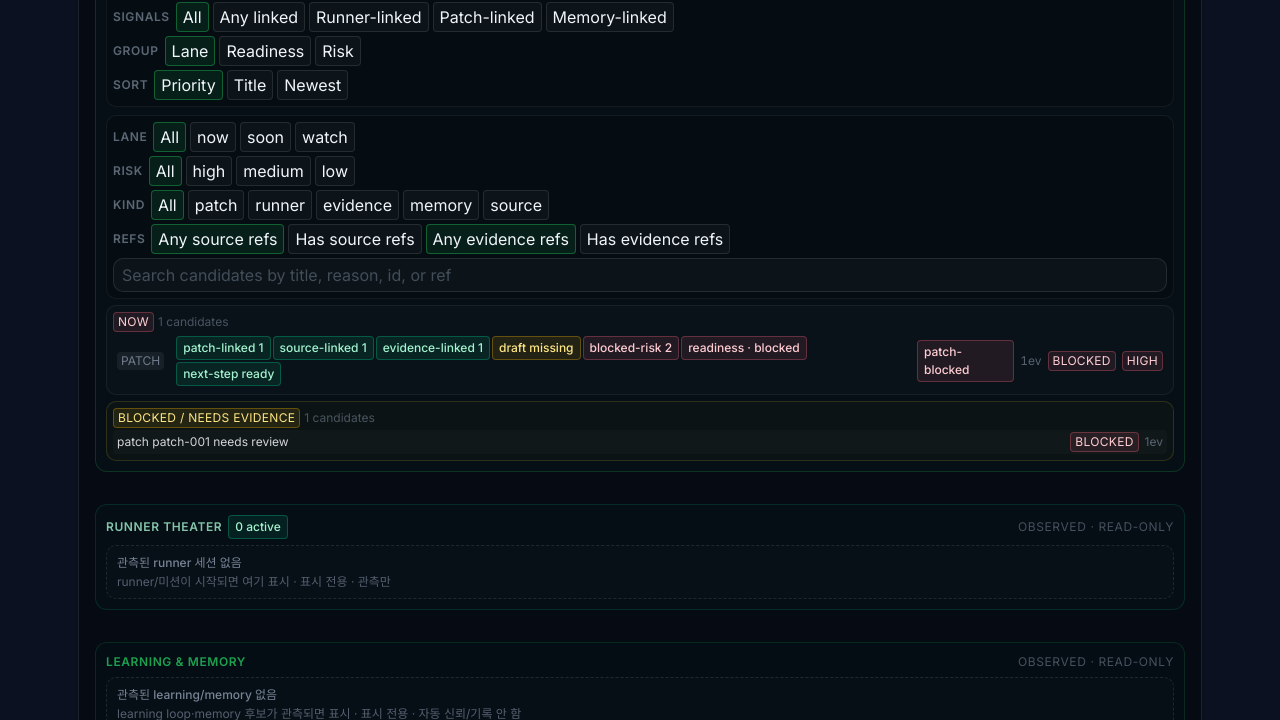
E17 — WorkItem Candidate patch signal UI › shows patch signals in the candidate detail drawer as read-only
(page scrolled)
Click the button with test id "wic-row-wic-patch-patch-001" at (640, 360), box [113,334,1167,388]
(page scrolled)
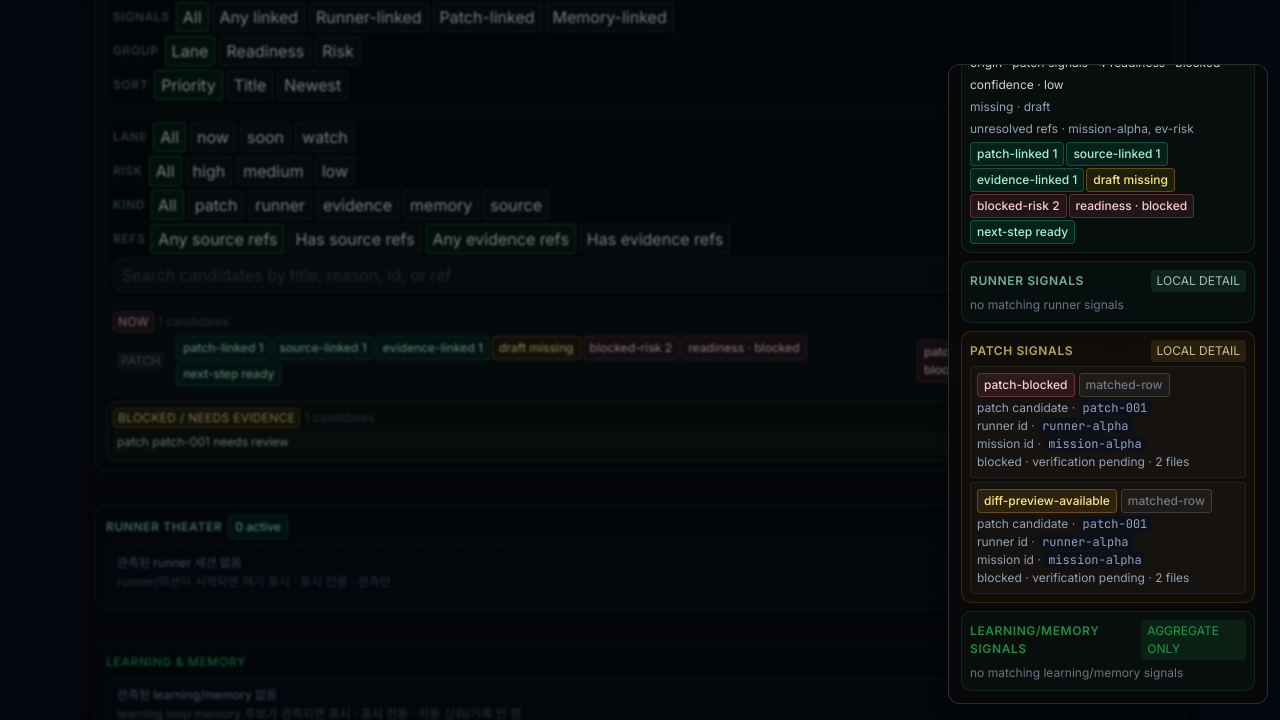
Now the element with test id "wic-patch-signals-section" shows "Patch Signals", box [970,343,1073,358]
Now the element with test id "wic-patch-signals-section" shows "patch-001", box [1082,400,1147,416]
Now the element with test id "wic-patch-signals-section" shows "blocked", box [977,454,1022,469]
